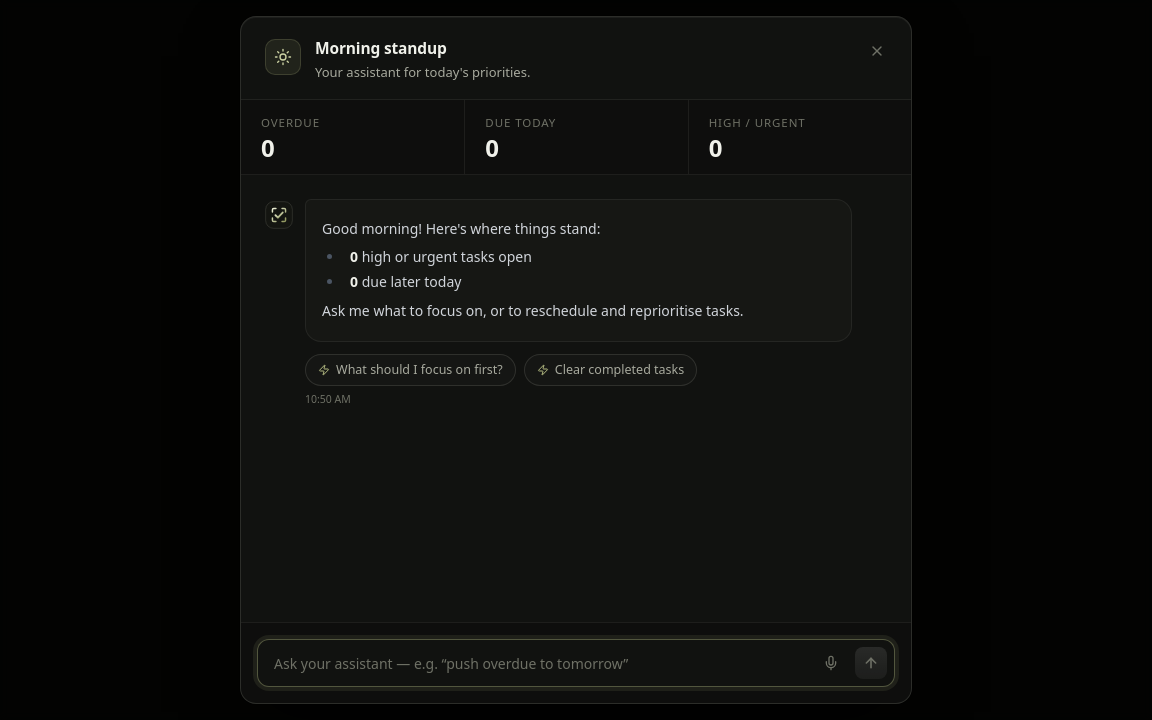
Test: MorningStandupModal › keeps the conversation when tasks change while open (regression: chat reset)
Later steps or results of the test are not shown.
Type "raise priority" into the field with placeholder "Ask your assistant — e.g. “push overdue to tomorrow”".
click(576, 663); type("raise priority")  # box [257, 639, 895, 687]
Then press Enter
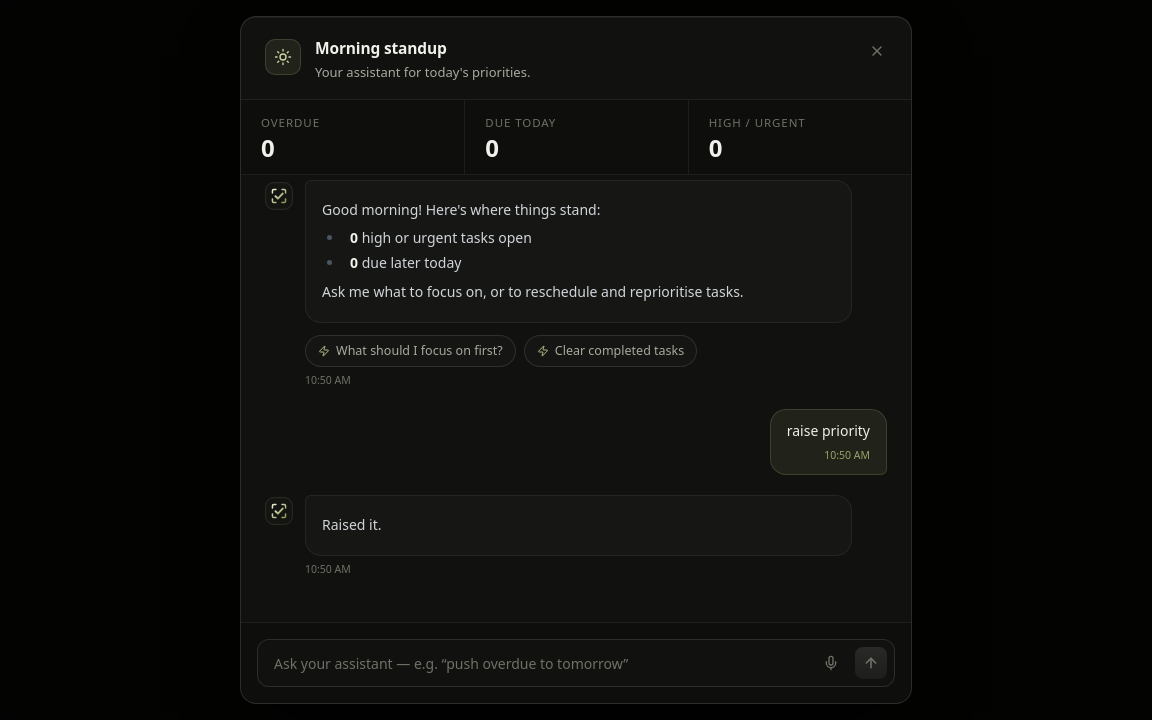
Result: the text "Raised it." is shown at [322, 515, 382, 534]
